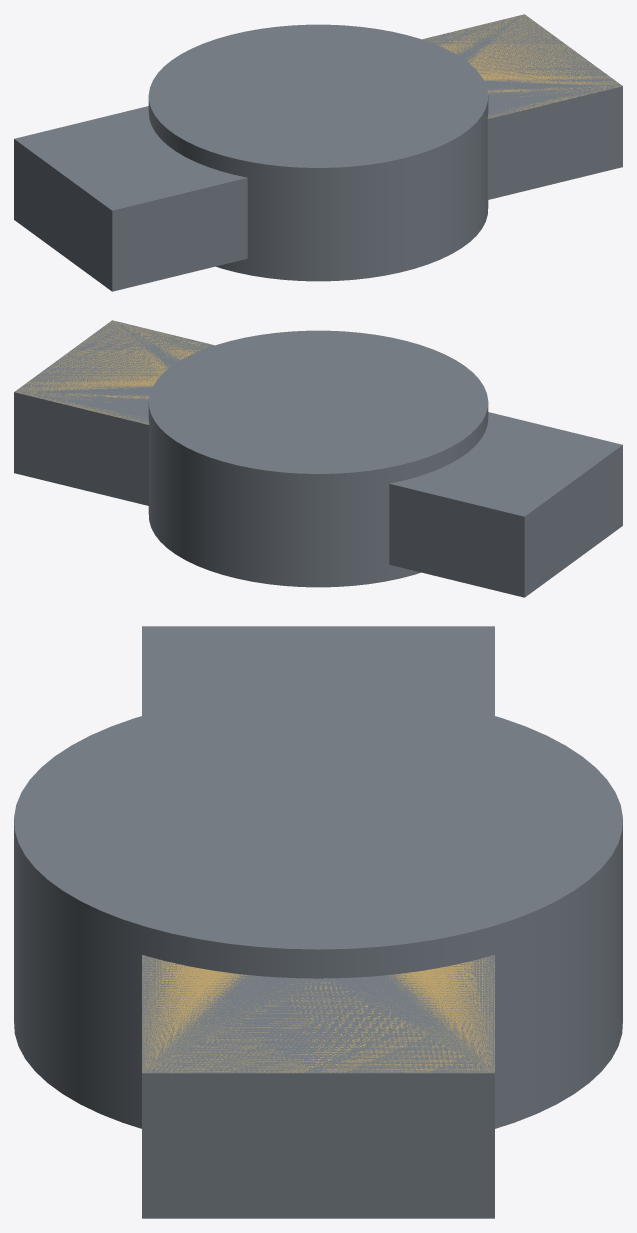
The model's file is step_28.glb.
3 renders of one model, top to bottom at view 1: azimuth 30°, elevation 25°; view 2: azimuth 150°, elevation 25°; view 3: azimuth 270°, elevation 25°, orthographic. The views are drawn at different scales.
Visible parts, largest first — view 1: part__main rotor hub, added__main rotor hub; view 2: part__main rotor hub, added__main rotor hub; view 3: part__main rotor hub, added__main rotor hub.
Part boxes in pixels (x1,y1,x2,y2): part__main rotor hub: [14, 14, 622, 291]; added__main rotor hub: [423, 15, 620, 118]; part__main rotor hub: [14, 320, 622, 597]; added__main rotor hub: [16, 321, 212, 424]; part__main rotor hub: [14, 626, 622, 1218]; added__main rotor hub: [142, 955, 494, 1072].
Bounding box in the file's own units: 660 × 140 × 380.
